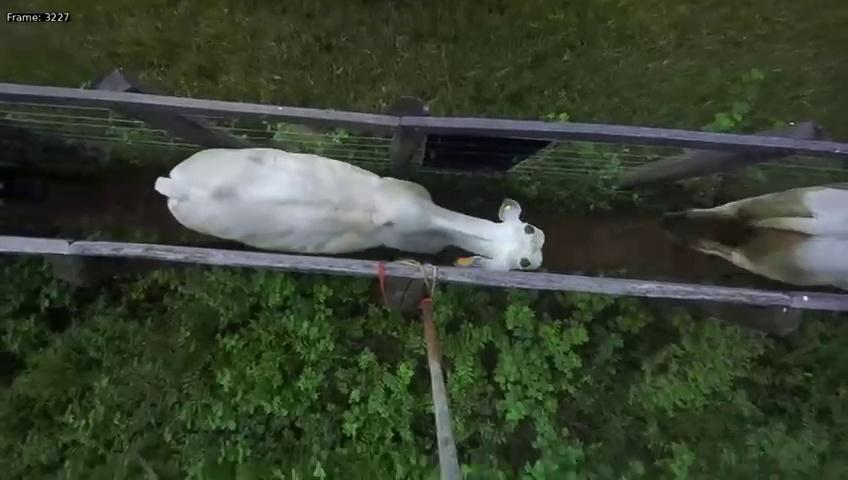cattle: (149, 134, 549, 279)
